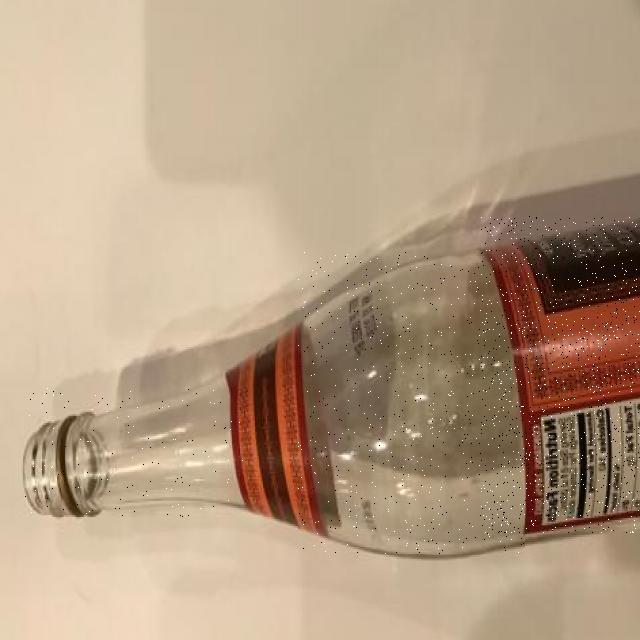glass: (298, 252, 525, 553), (23, 387, 244, 517)
paper: (482, 216, 640, 534)
